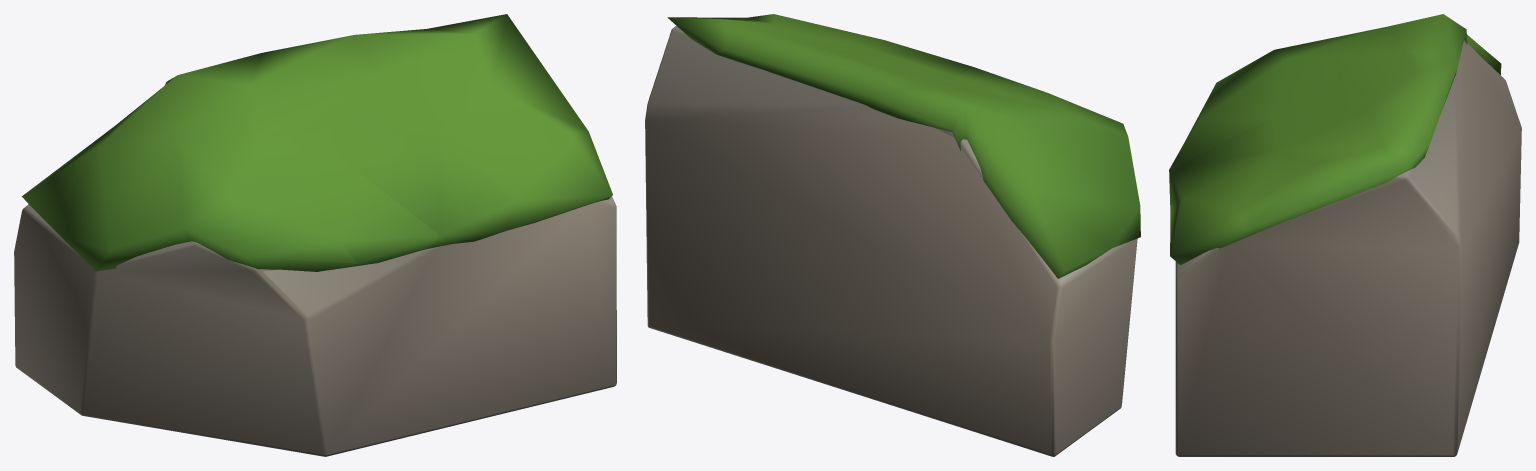
File: glade_pebble_boulder_a_lod2.glb
The picture shows the model from 3 angles, left to right: view 1: azimuth 30°, elevation 25°; view 2: azimuth 150°, elevation 25°; view 3: azimuth 270°, elevation 25°; orthographic projection.
Parts seen in each view (by area): view 1: glade_pebble_boulder_a.001, moss.001; view 2: glade_pebble_boulder_a.001, moss.001; view 3: glade_pebble_boulder_a.001, moss.001.
Boxes of the visible parts, x1=… form: glade_pebble_boulder_a.001: x1=14, y1=196, x2=616, y2=456; moss.001: x1=22, y1=14, x2=612, y2=271; glade_pebble_boulder_a.001: x1=645, y1=26, x2=1137, y2=456; moss.001: x1=667, y1=14, x2=1140, y2=278; glade_pebble_boulder_a.001: x1=1175, y1=40, x2=1521, y2=456; moss.001: x1=1169, y1=14, x2=1501, y2=265.
Size of the model in its own units: 7.49 by 4.74 by 5.1.
